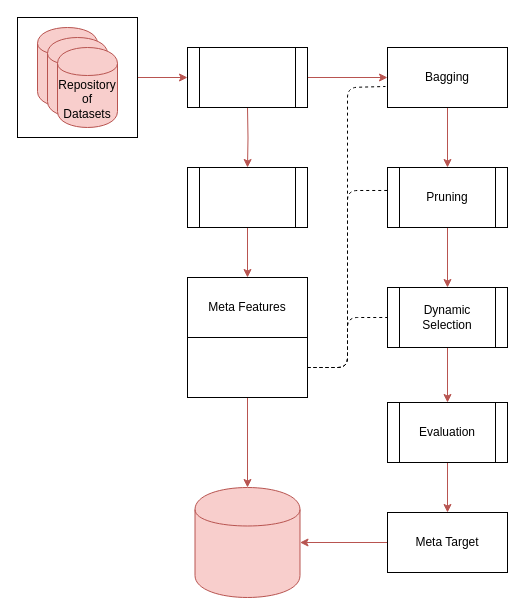
Image size: 525x615. Some labels were removed from this diagram. Here are the shapes that lost their labels. From the top down, the centre of each, then its label:
At point 247,77: "Data Preparation".
At point 247,197: "Systematic Meta Features Extration".
At point 247,367: "Bagging configuration".
At point 247,542: "Meta Data".
